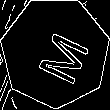M_NW: (23, 21, 87, 84)
